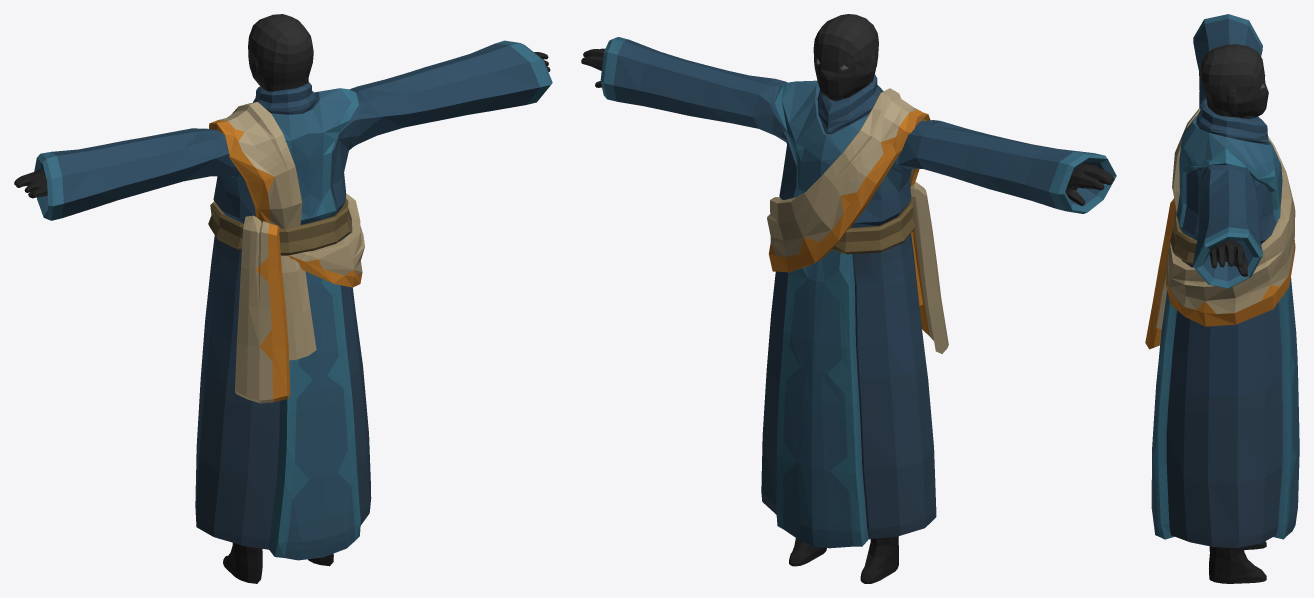
File: CharSkyNPC_Body_AP19MonkRobe.glb
3 renders of one model, left to right at view 1: azimuth 30°, elevation 25°; view 2: azimuth 150°, elevation 25°; view 3: azimuth 270°, elevation 25°, orthographic. The views are drawn at different scales.
Visible parts, largest first — view 1: CharSkyNPC_Body_AP19MonkRobe; view 2: CharSkyNPC_Body_AP19MonkRobe; view 3: CharSkyNPC_Body_AP19MonkRobe.
Part boxes in pixels (x1,y1,x2,y2): CharSkyNPC_Body_AP19MonkRobe: (14, 14, 552, 583); CharSkyNPC_Body_AP19MonkRobe: (581, 14, 1116, 583); CharSkyNPC_Body_AP19MonkRobe: (1145, 14, 1299, 583).
Size of the model in its own units: 13.87 by 13.68 by 3.71.
1 material, 1 textured.
